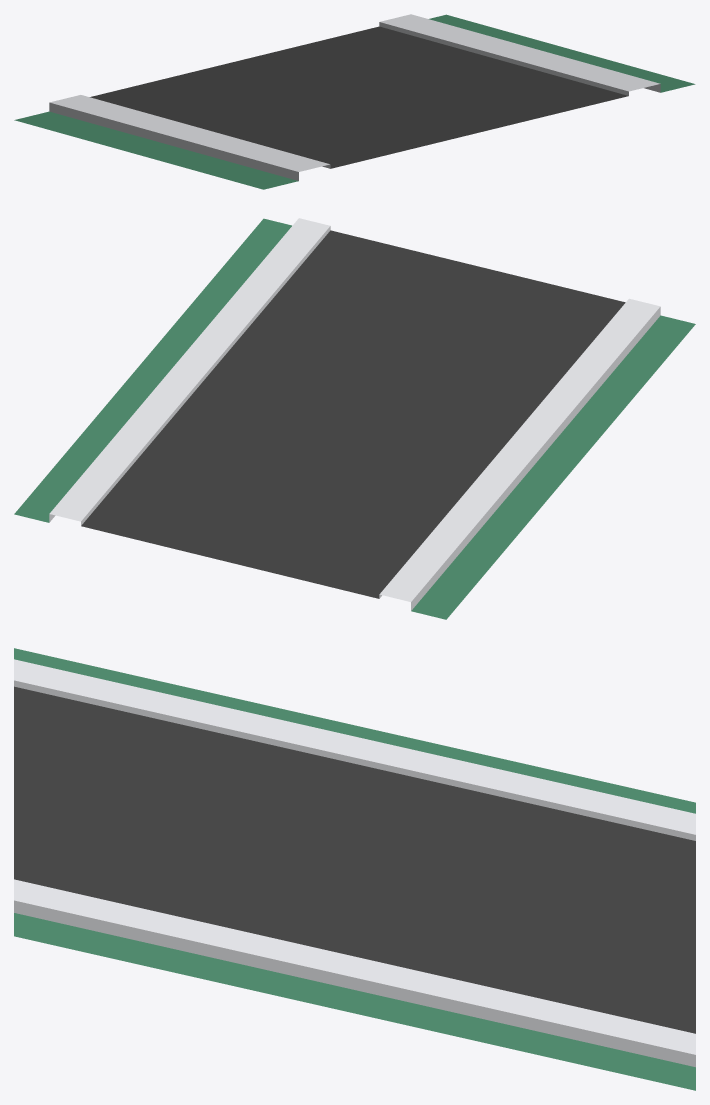
File: roadRamp.obj
3 renders of one model, top to bottom at view 1: azimuth 30°, elevation 25°; view 2: azimuth 150°, elevation 25°; view 3: azimuth 270°, elevation 25°, orthographic. The views are drawn at different scales.
Visible parts, largest first — view 1: roadRamp; view 2: roadRamp; view 3: roadRamp.
Part boxes in pixels (x1,y1,x2,y2): roadRamp: [14, 14, 695, 189]; roadRamp: [14, 218, 695, 619]; roadRamp: [14, 648, 695, 1090].
Bounding box in the file's own units: 1 × 0.27 × 1.
